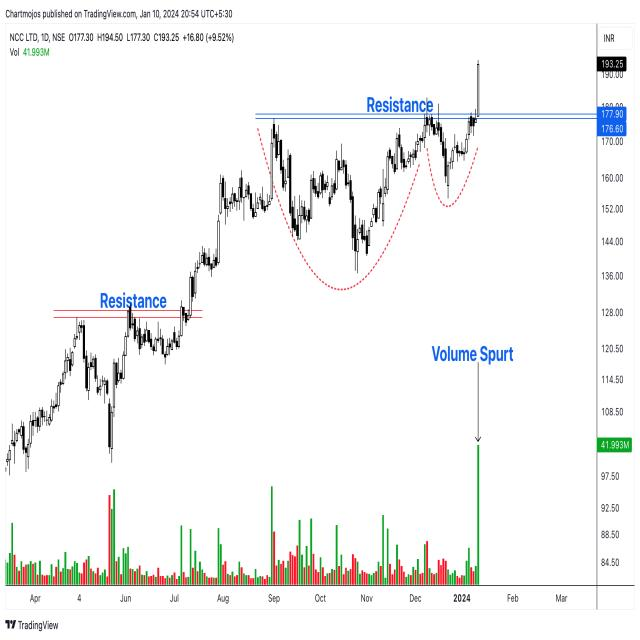Cup-and-handle: (264, 120, 480, 266)
